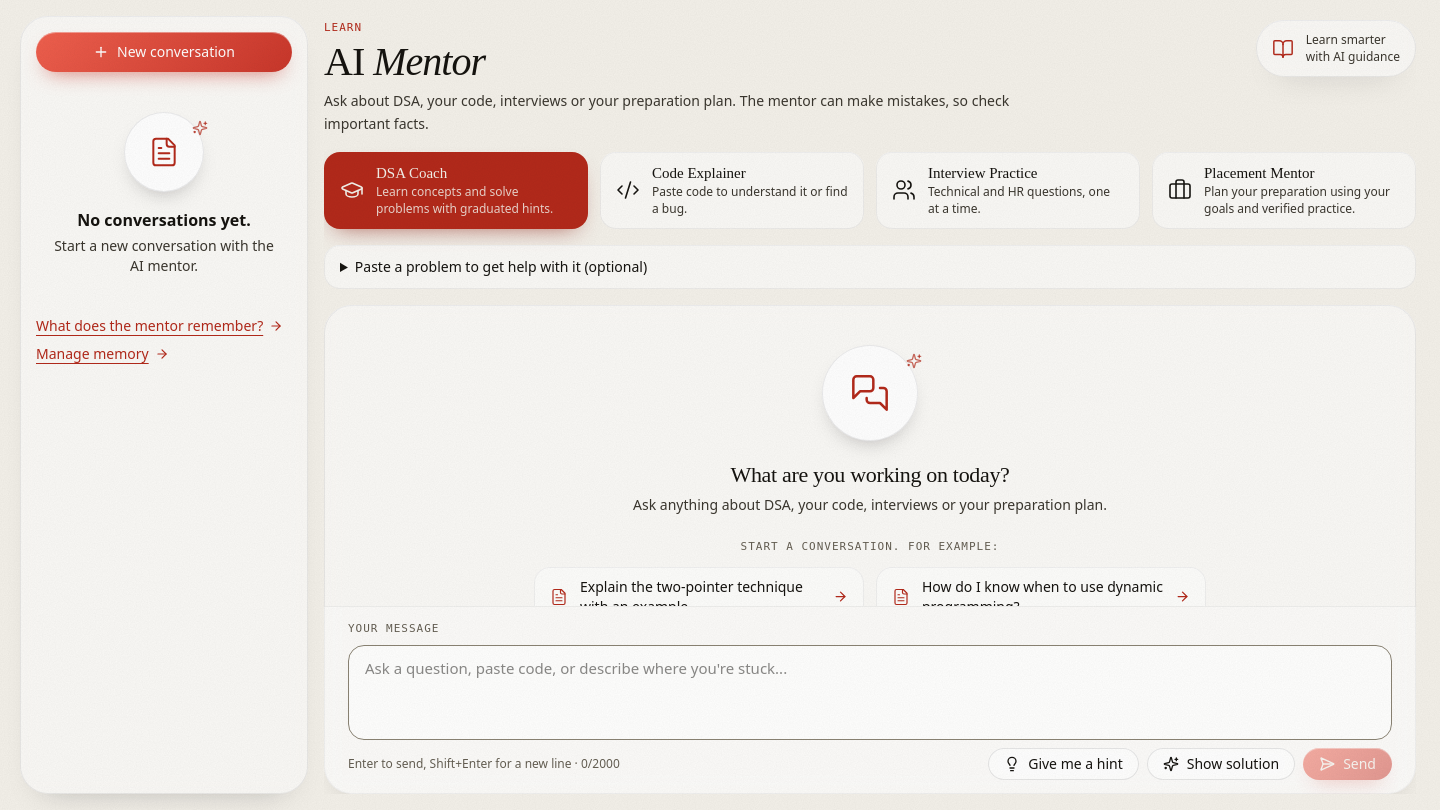
Test: mentor chat › shows an empty state with starters, four modes, and requires sign-in
Expected: the heading "AI Mentor" is shown, [324,39,485,84]
Expected: the text "No conversations yet." is shown, [77,208,251,232]
Click the radio button labelled "Interview Practice" at {"x": 1008, "y": 190}, box [876,152,1140,229]
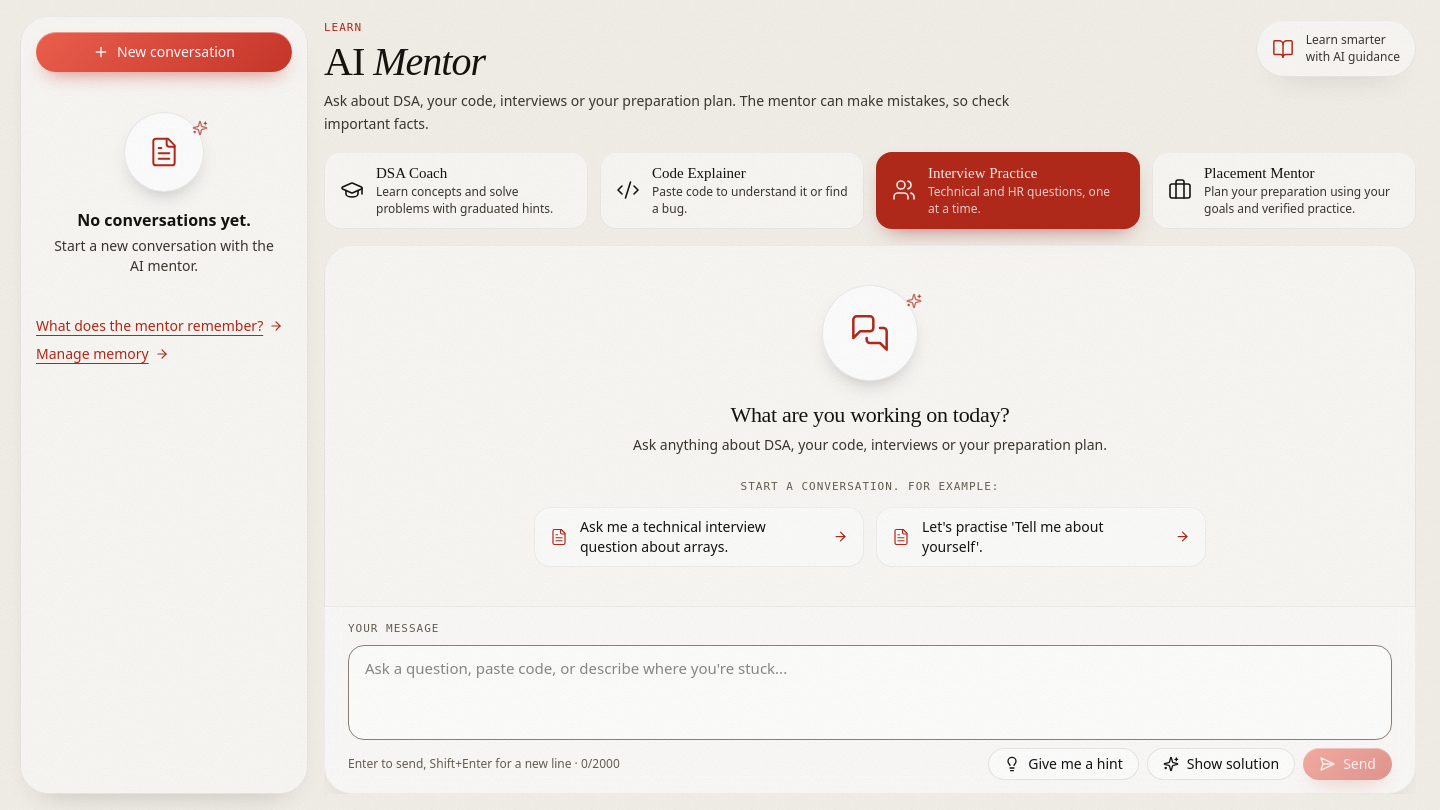
Click the button "Ask me a technical interview question about arrays." at {"x": 699, "y": 537}, box [534,507,864,567]
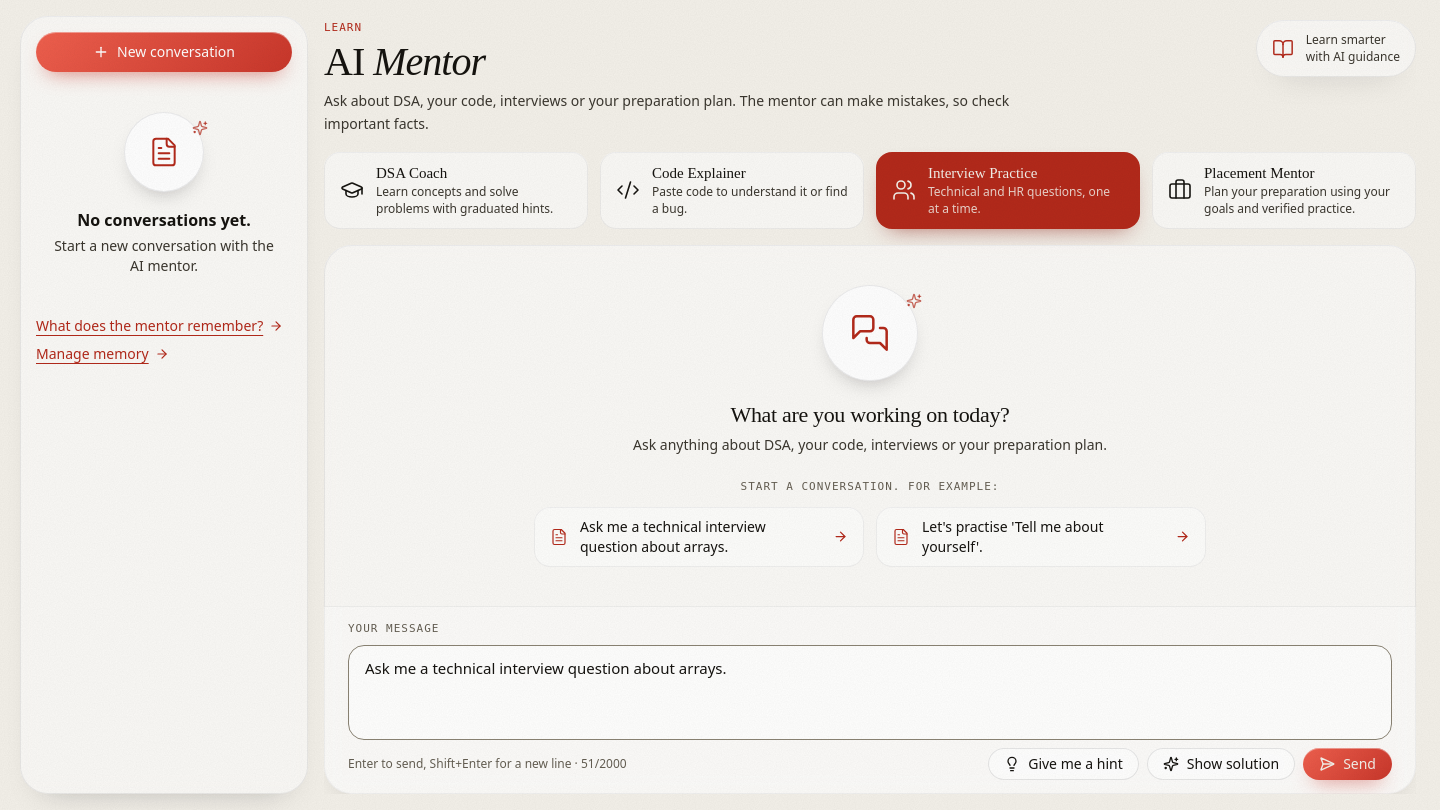
Expected: the text box labelled "Your message" holds "Ask me a technical interview question about arrays.", [348,645,1392,740]
